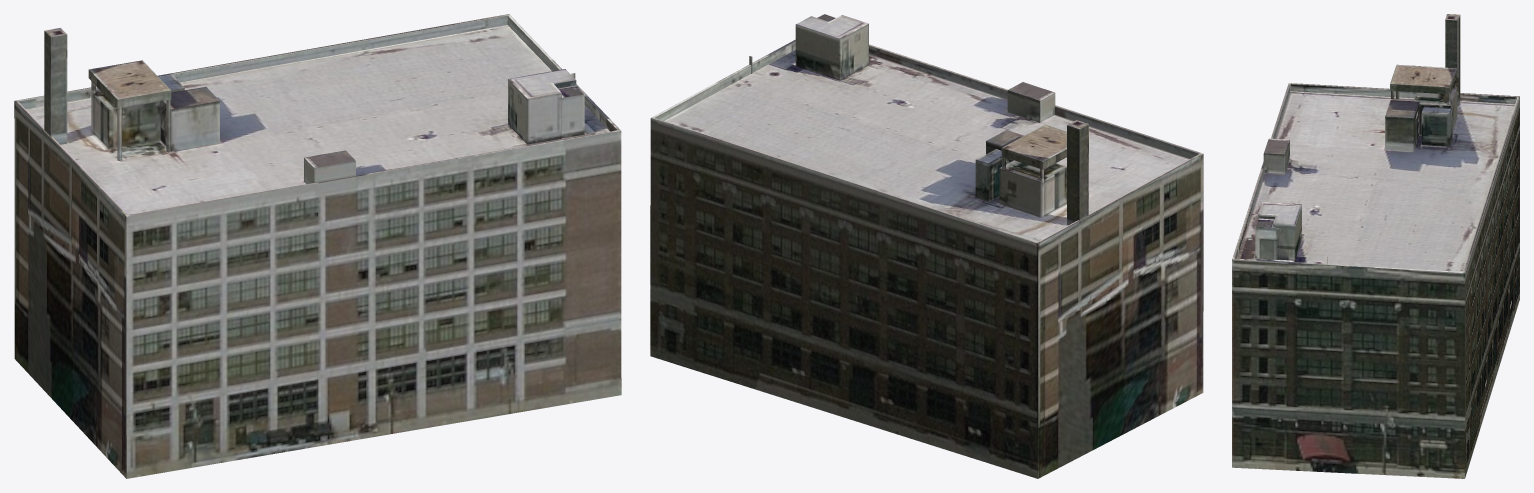
File: Buildings_subset_46.dae
The picture shows the model from 3 angles, left to right: view 1: azimuth 30°, elevation 25°; view 2: azimuth 150°, elevation 25°; view 3: azimuth 270°, elevation 25°; orthographic projection. The views are drawn at different scales.
Parts seen in each view (by area): view 1: Buildings_subset_46.dae (×14); view 2: Buildings_subset_46.dae (×12); view 3: Buildings_subset_46.dae (×12).
Part boxes in pixels (<box>): Buildings_subset_46.dae (×14): <box>14,14,621,478</box>; Buildings_subset_46.dae (×12): <box>650,14,1203,478</box>; Buildings_subset_46.dae (×12): <box>1232,14,1519,478</box>.
Size of the model in its own units: 192 by 123 by 135.
Materials: 2 (1 with a texture image).
